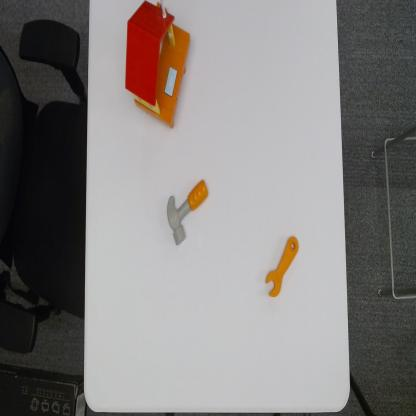Hammer: (166, 178, 210, 249)
House: (124, 0, 192, 132)
Screwdriver: (265, 233, 300, 299)
